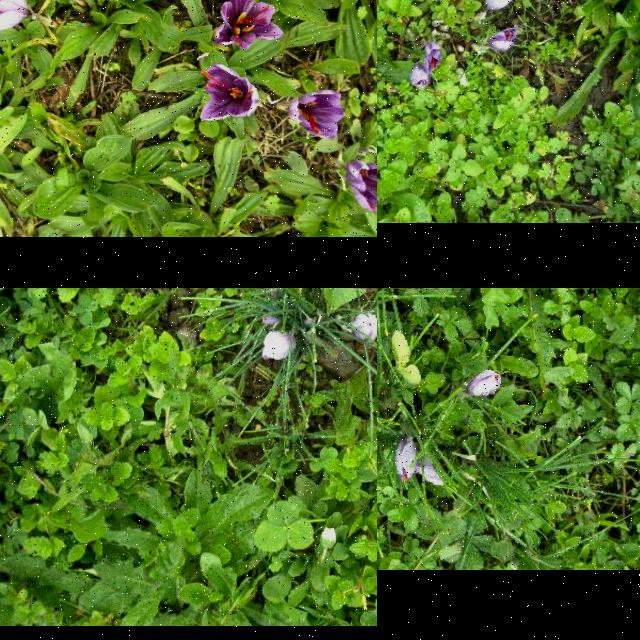flower: (216, 0, 284, 49), (203, 66, 261, 122), (288, 91, 346, 140), (348, 161, 377, 212), (262, 332, 298, 361), (466, 370, 502, 398), (0, 0, 29, 32), (350, 314, 377, 343), (490, 29, 516, 53), (427, 42, 441, 70), (412, 69, 431, 89), (487, 0, 516, 9)
overlap: (395, 438, 445, 486)
